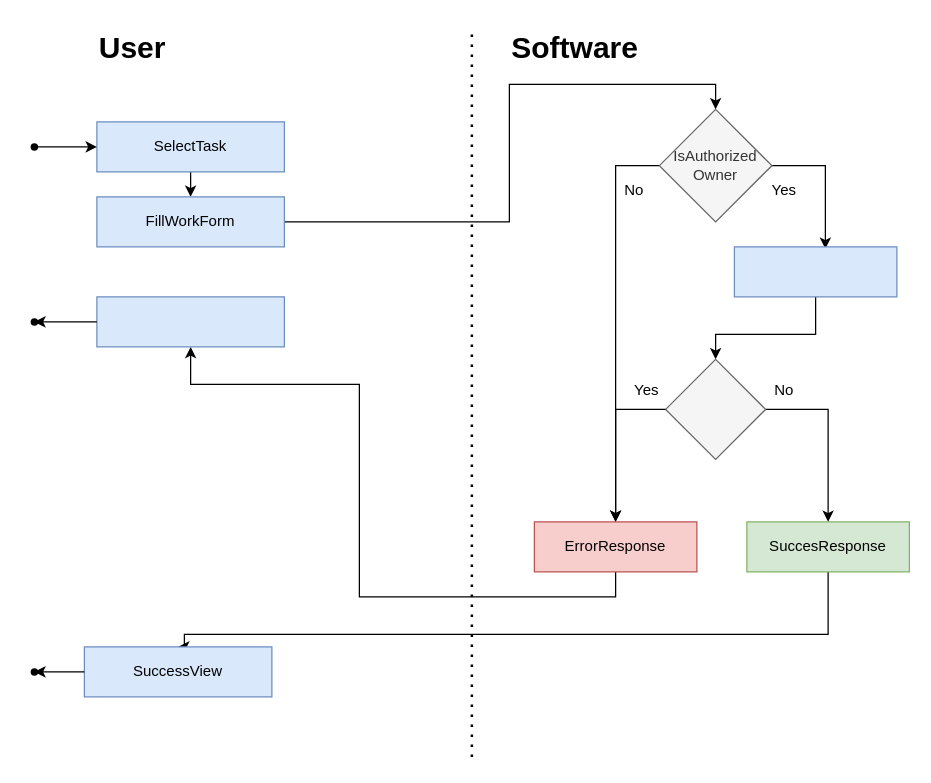
Image size: 931x783. Some labels were removed from this diagram. Each missing label, with the box of its shape:
DbError: (664, 358, 766, 459)
ErrorMessageView: (96, 296, 284, 347)
UpdateDatabase: (733, 246, 897, 297)
